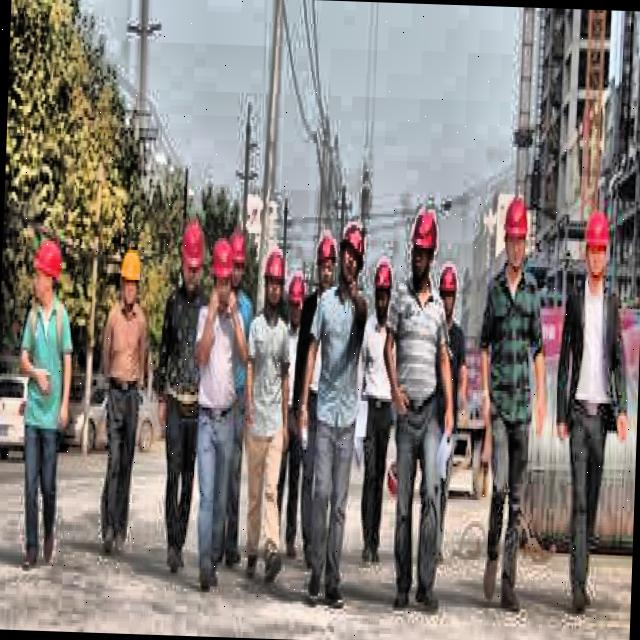helmet: (26, 231, 61, 316), (405, 202, 439, 284), (580, 208, 614, 284), (334, 218, 369, 288), (501, 197, 532, 275), (177, 216, 207, 296), (258, 248, 288, 318), (208, 238, 236, 312), (117, 247, 145, 310), (371, 258, 395, 326), (436, 258, 462, 320), (315, 232, 339, 298), (285, 266, 309, 330), (228, 226, 248, 289)
